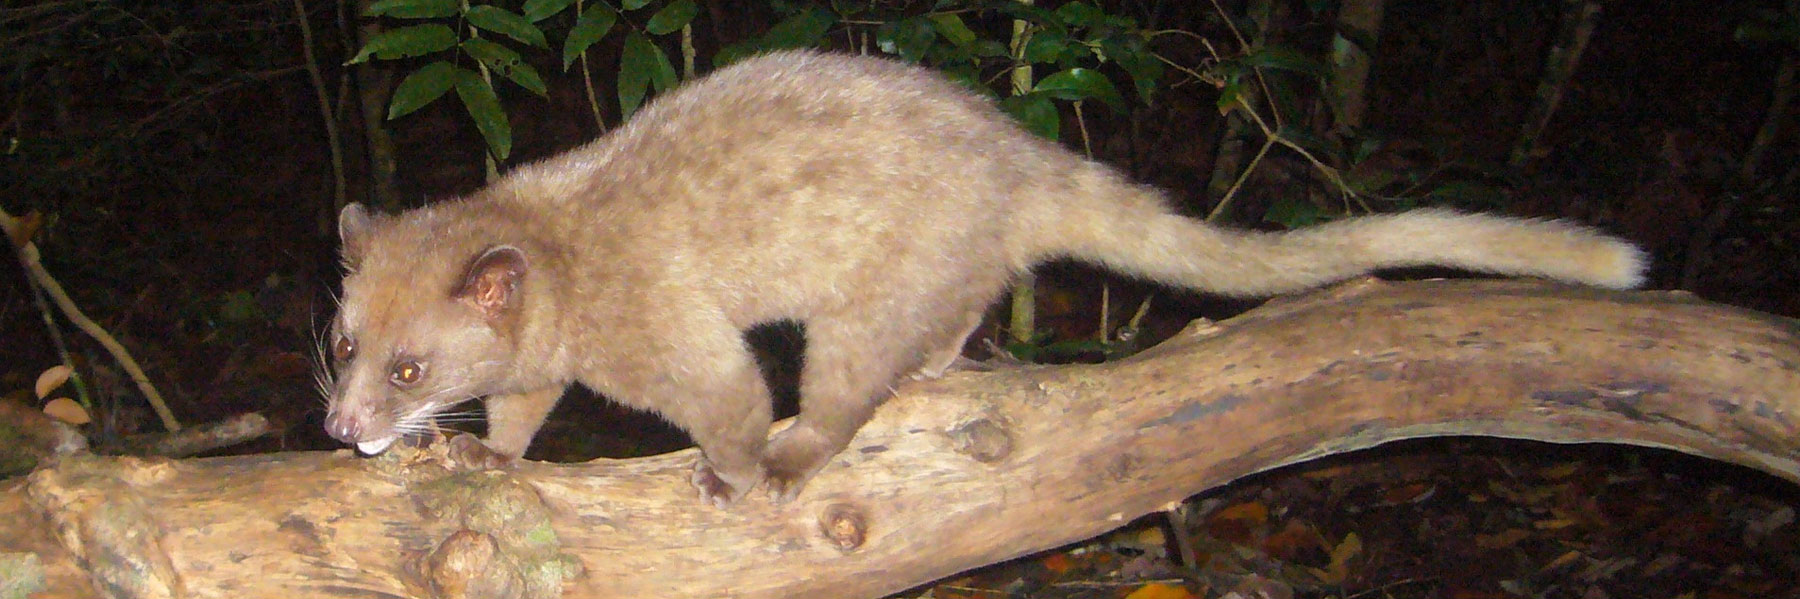Civet: (284, 42, 1190, 512)
